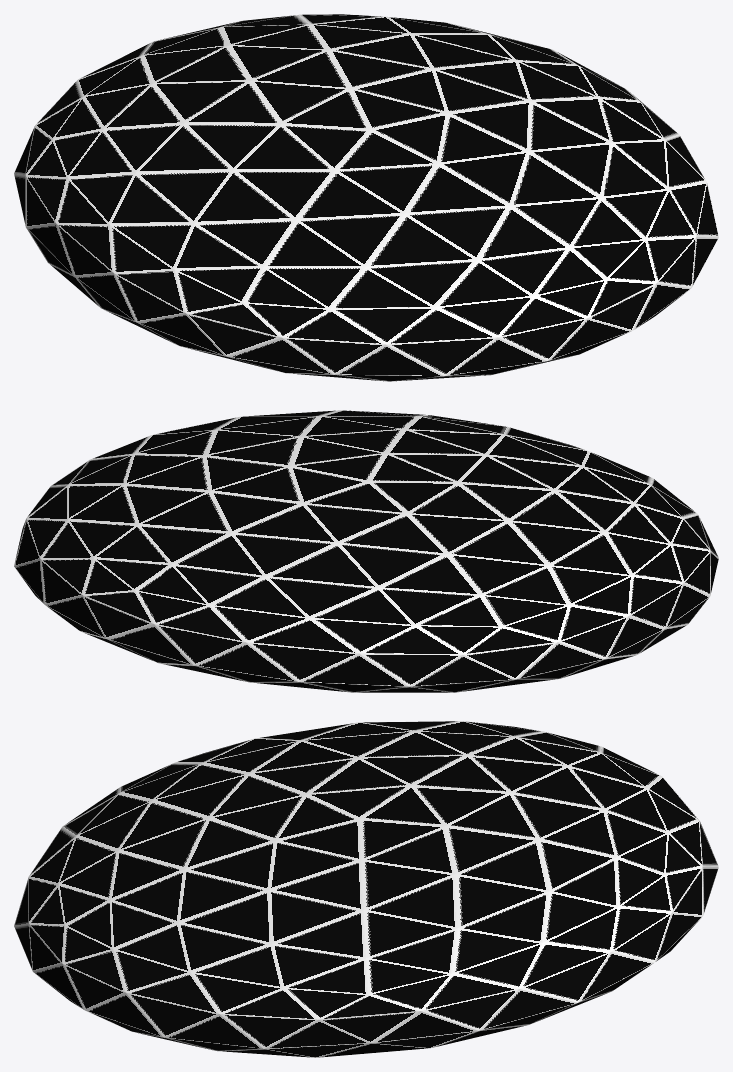
File: spaceShipTestDome.glb
3 renders of one model, top to bottom at view 1: azimuth 30°, elevation 25°; view 2: azimuth 150°, elevation 25°; view 3: azimuth 270°, elevation 25°, orthographic.
Parts seen in each view (by area): view 1: IcoDomeGood; view 2: IcoDomeGood; view 3: IcoDomeGood.
Boxes of the visible parts, x1,y1,x2,y2 form: IcoDomeGood: (14, 14, 718, 381); IcoDomeGood: (14, 410, 718, 692); IcoDomeGood: (14, 721, 718, 1057).
Size of the model in its own units: 41.29 by 8.09 by 42.82.
Materials: 1 (1 with a texture image).
